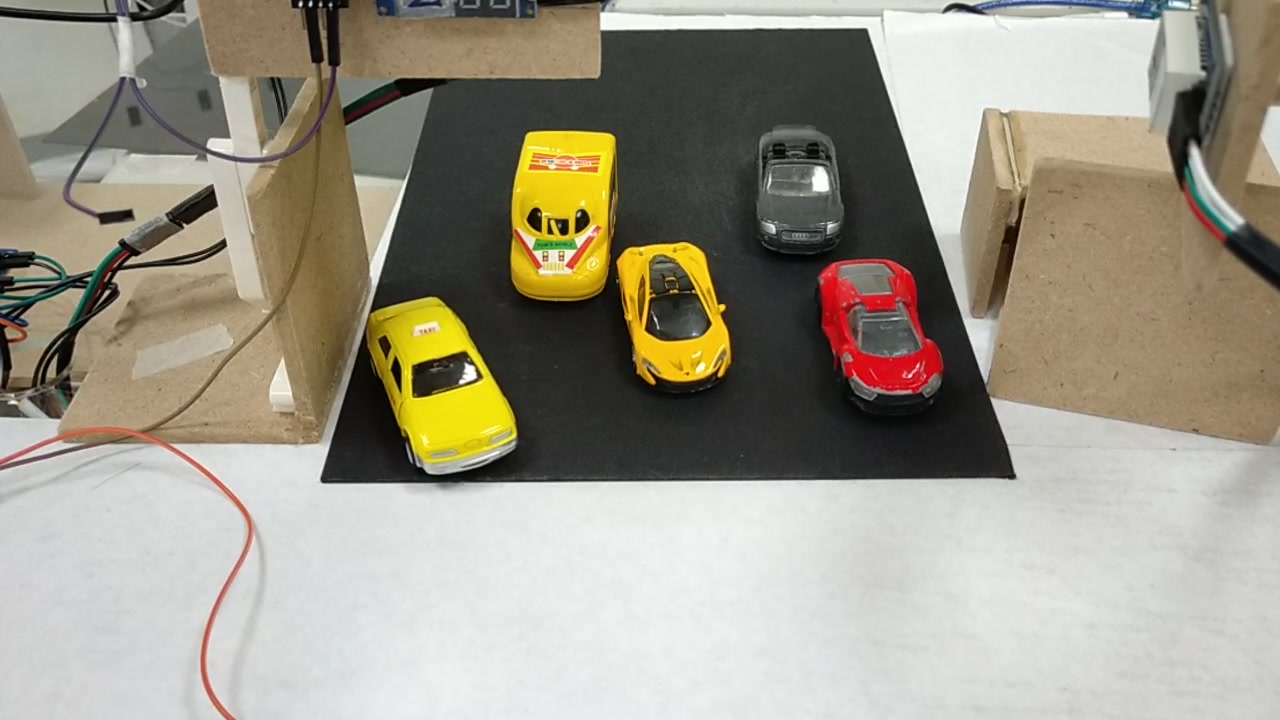car: (359, 300, 514, 479), (816, 259, 947, 408), (615, 245, 724, 390), (749, 126, 841, 253)
